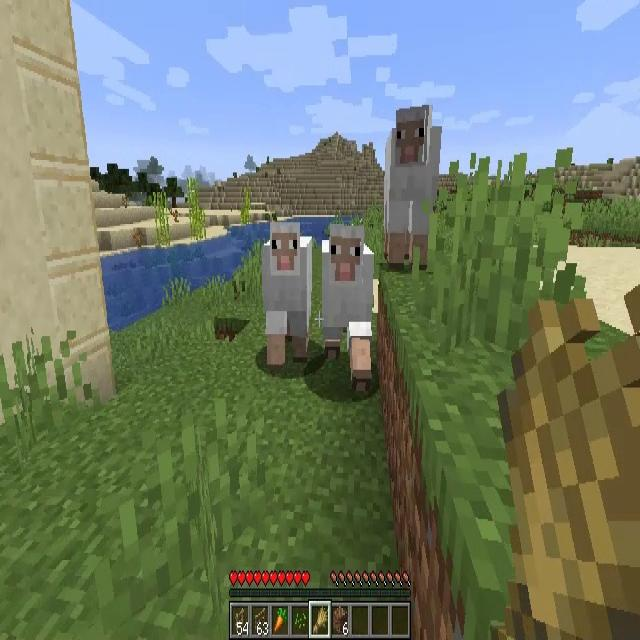sheep: (384, 109, 440, 266), (323, 223, 373, 389), (265, 220, 309, 364)
